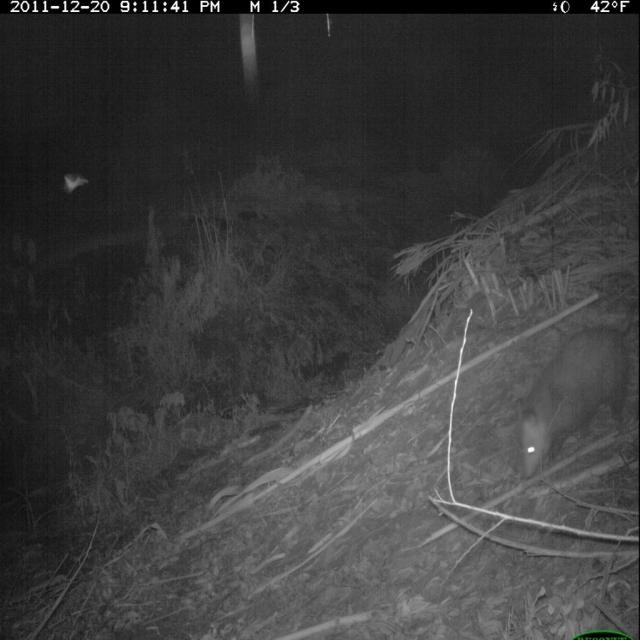opossum: (510, 313, 640, 489)
